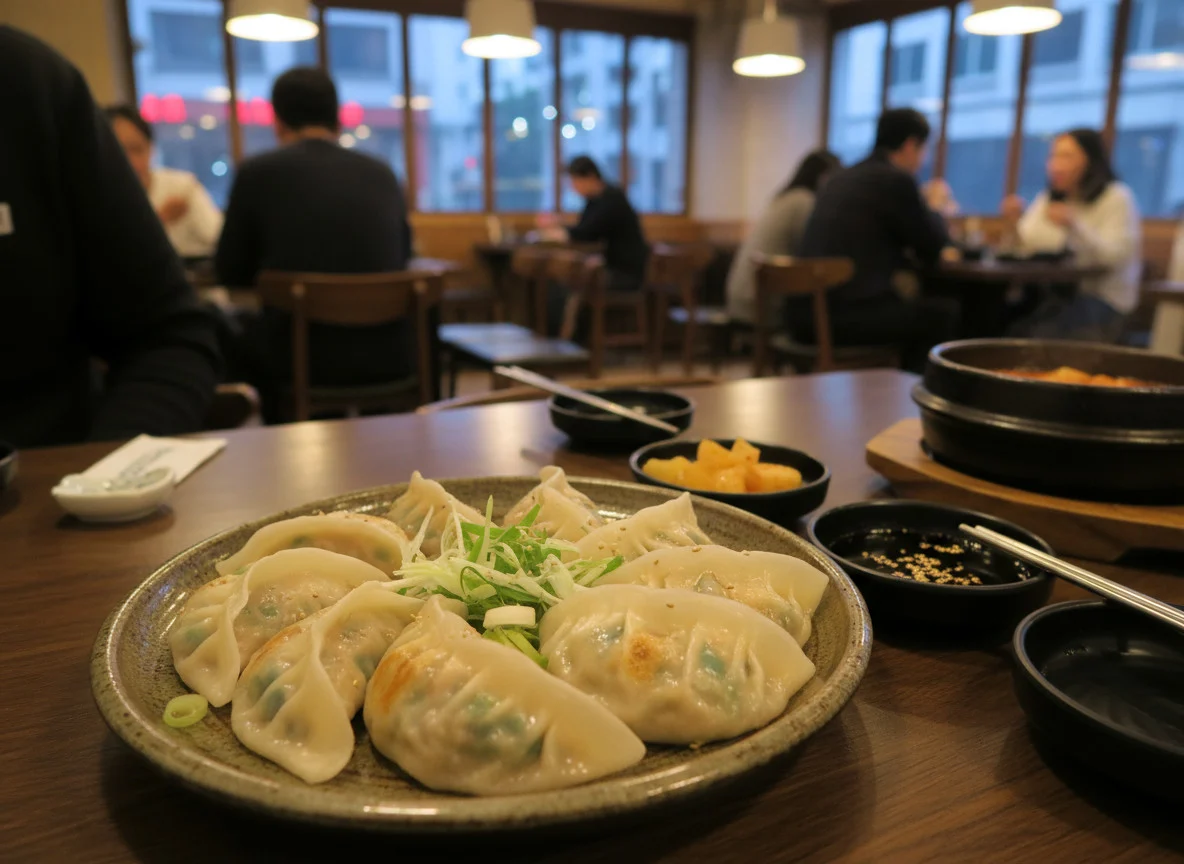momo: (362, 598, 650, 787), (548, 588, 817, 743), (165, 546, 397, 707), (231, 579, 412, 784), (587, 541, 834, 651), (214, 509, 426, 577), (565, 486, 716, 568), (501, 459, 601, 551), (386, 470, 488, 540)
